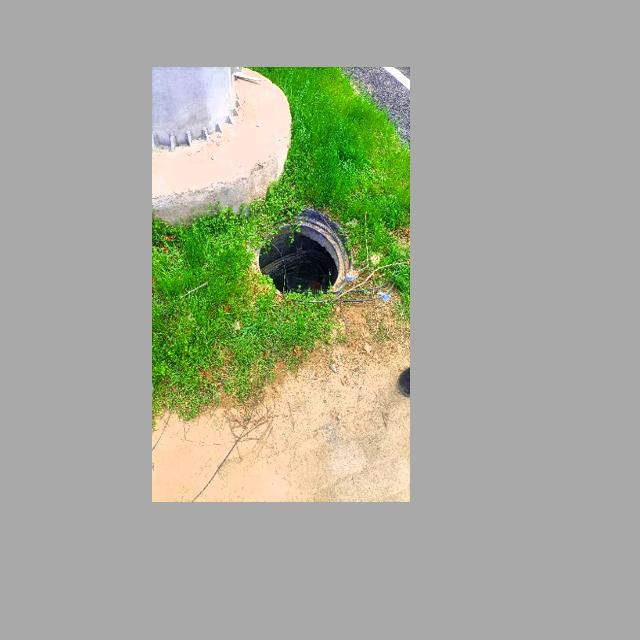lose: (253, 207, 350, 302)
